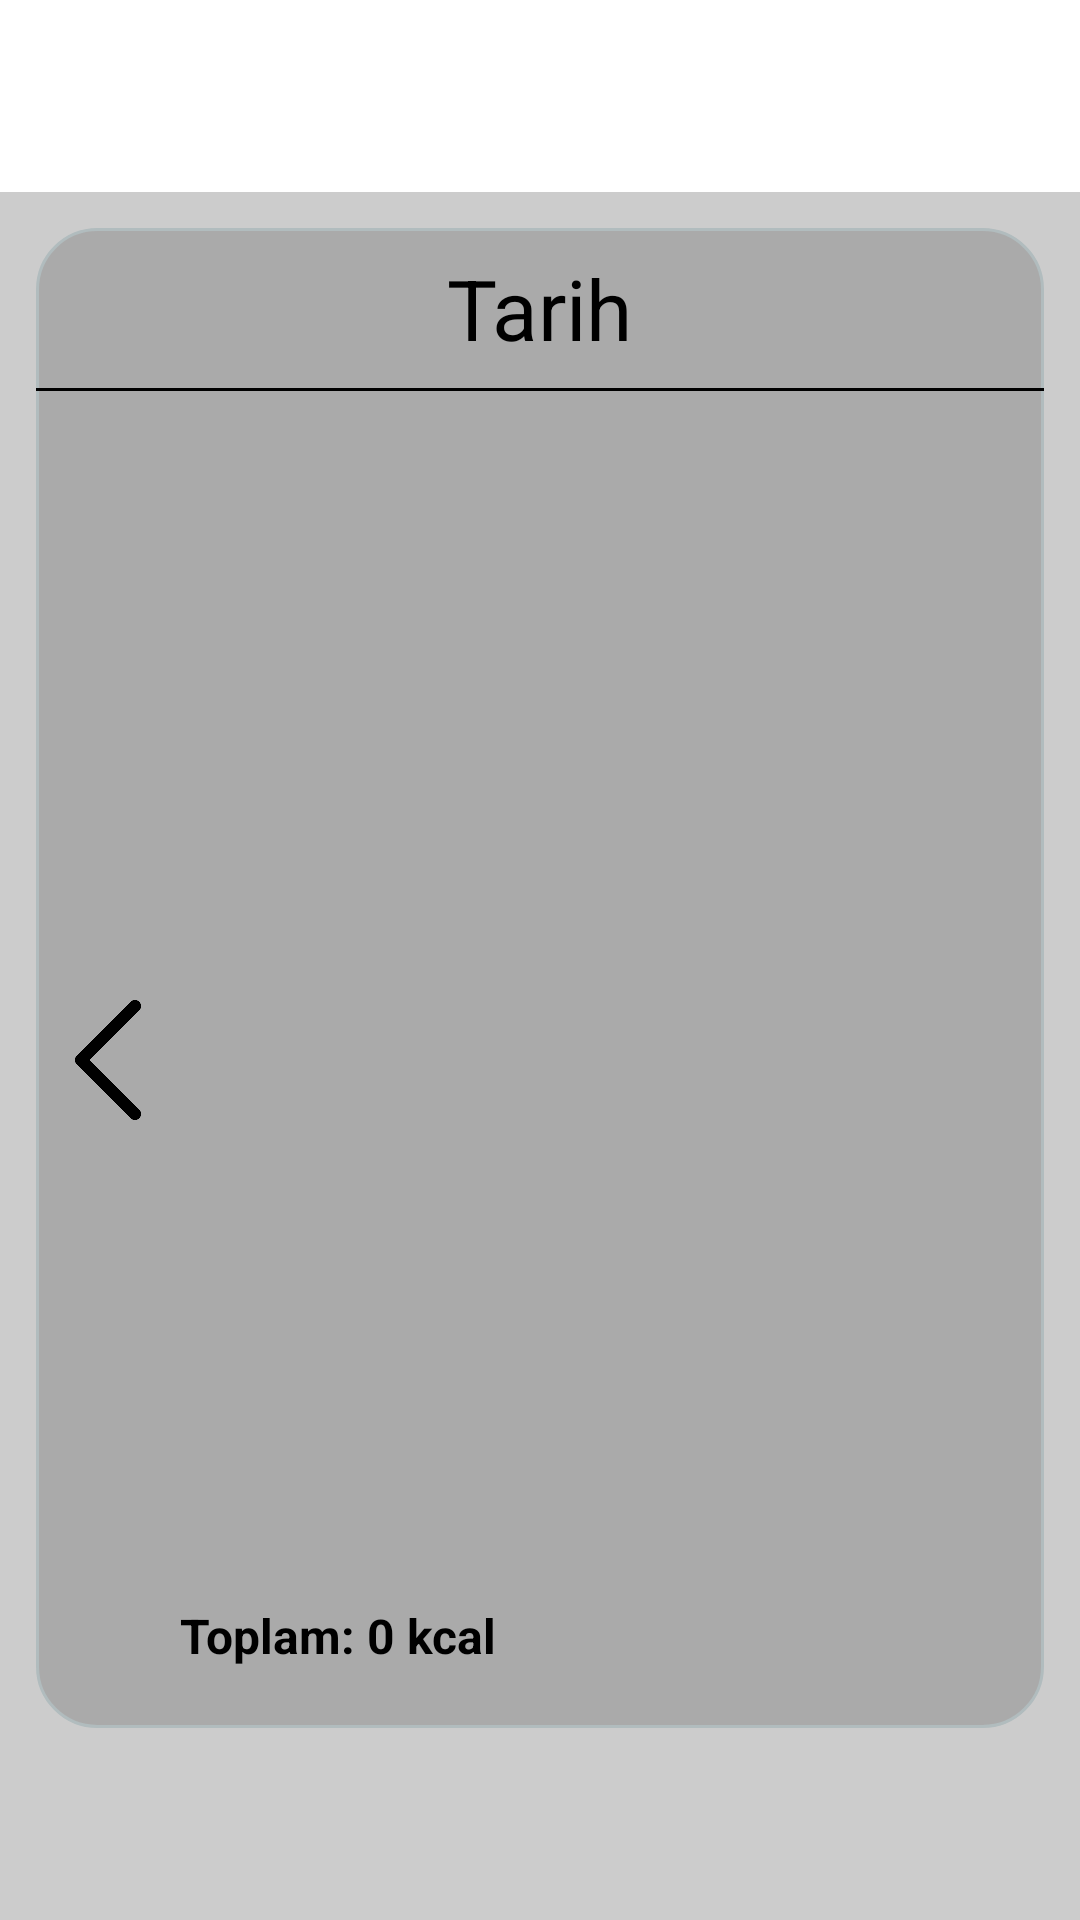

Named icons in this screenshot (1080px x 1920px) and their centers, (x,y):
Önceki gün: (108,1060)
